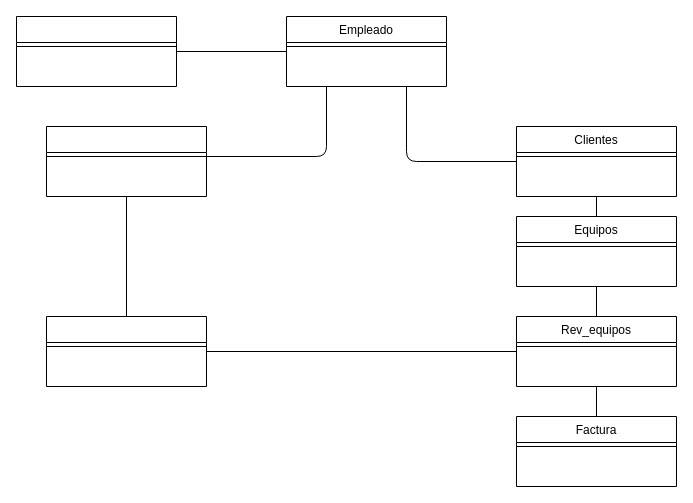
The diagram is 693 pixels wide and 503 high, and some of its shapes have lost their labels. The shapes that lost their labels are listed below. From the top down, each one's centre as x and y in pixels, then its label:
point (96, 51): Usuario
point (126, 161): Compra
point (126, 351): Inventario
